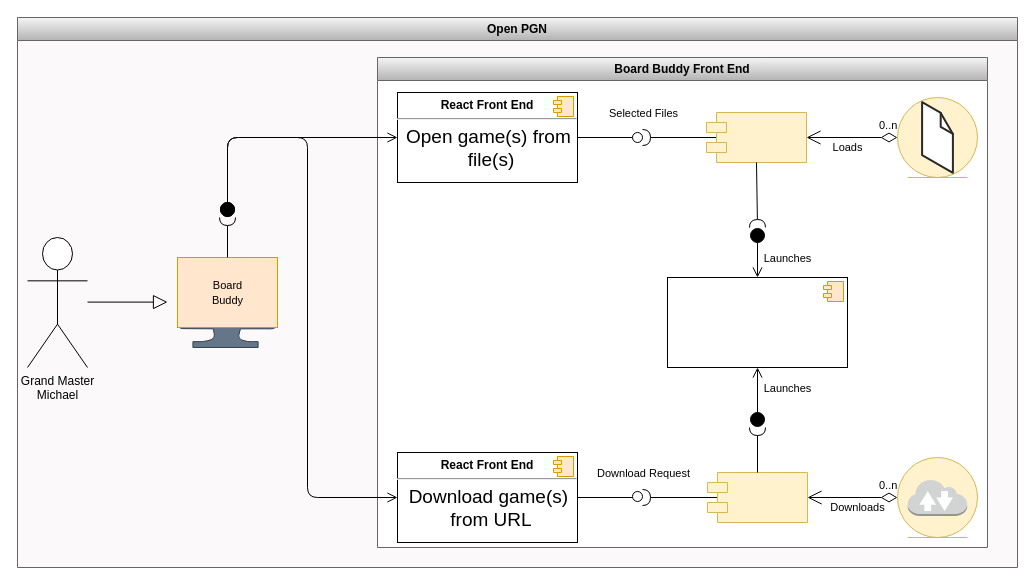
This 1035x585 diagram has some shape labels left out. Here are the shapes that lost their labels. From the top down, the centre of each, then its label:
At (x=756, y=137): "File IO Module".
At (x=757, y=322): "React Front End Study Area(?)".
At (x=757, y=497): "File Transfer Module".
